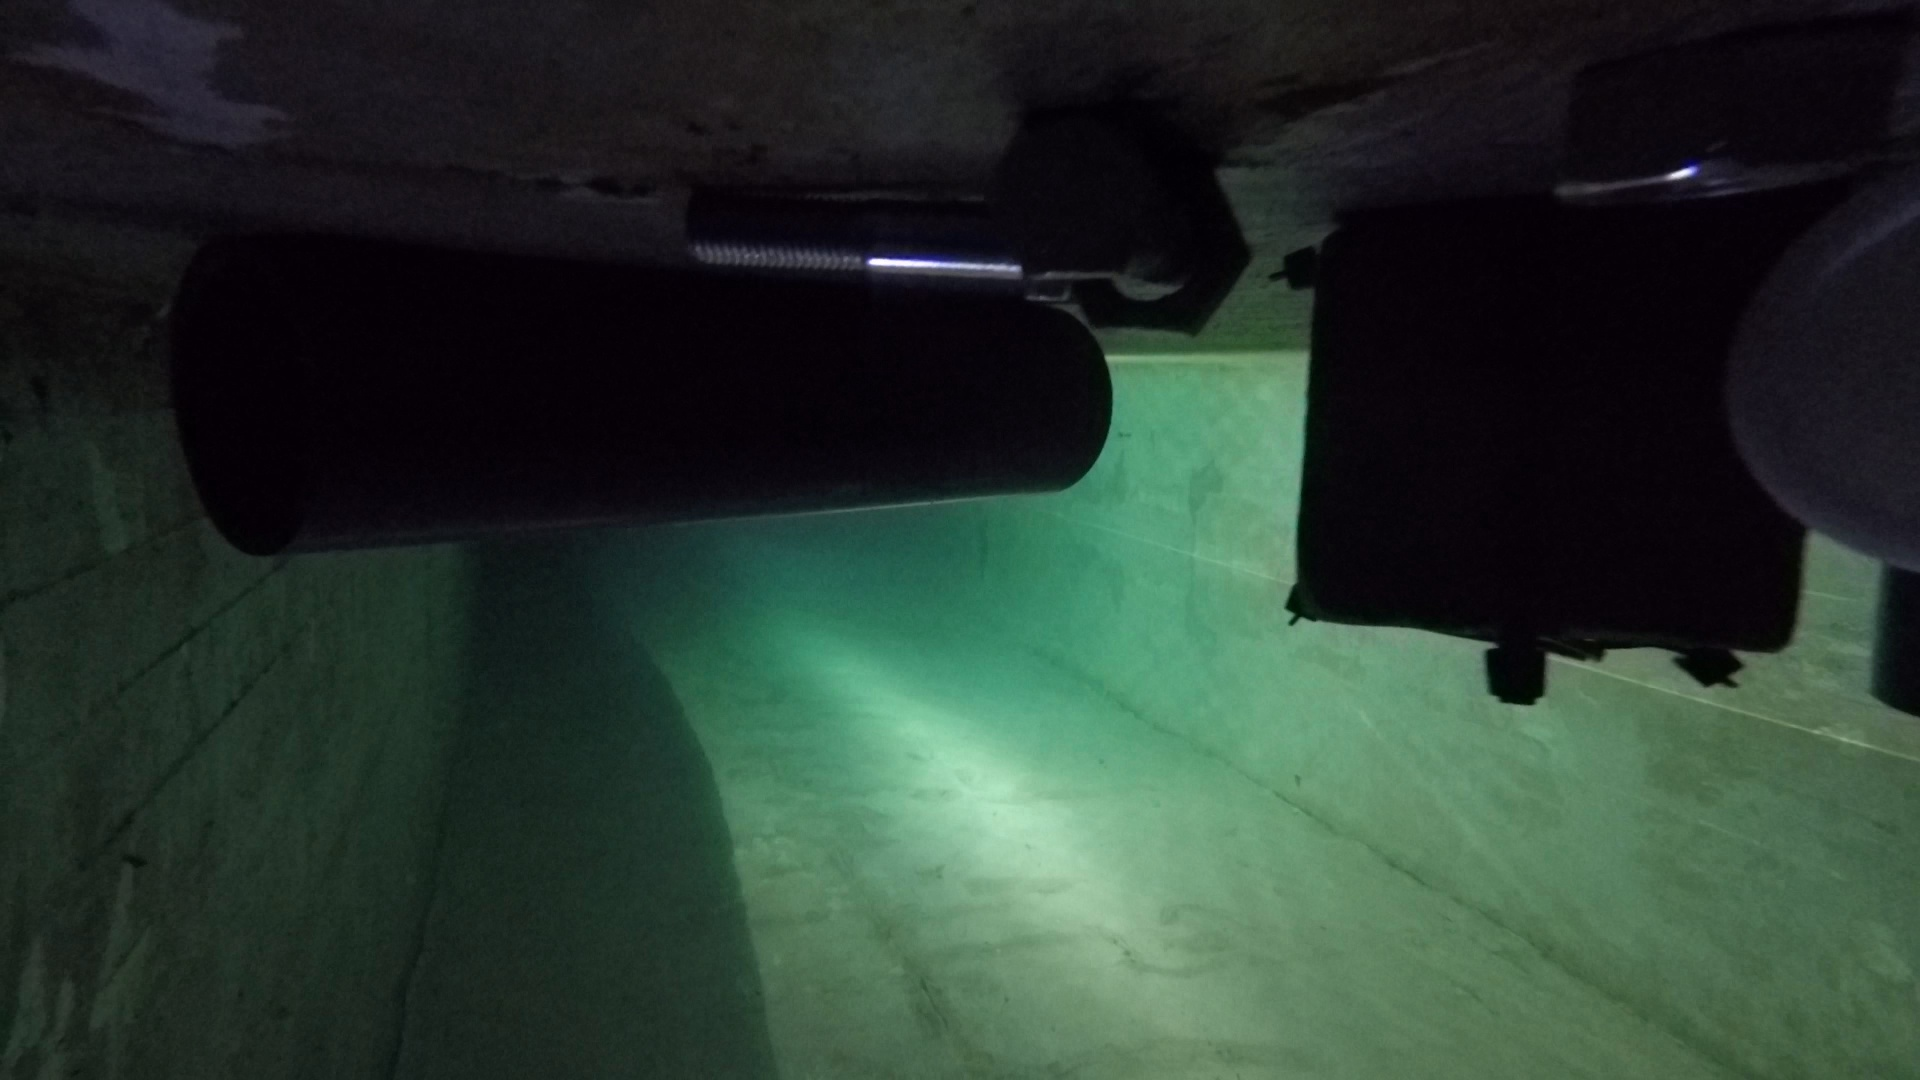bolt: (688, 164, 1253, 338)
led_block: (1280, 216, 1807, 709)
nut: (1557, 40, 1876, 198)
pipe: (166, 237, 1118, 562), (1722, 160, 1920, 571)
